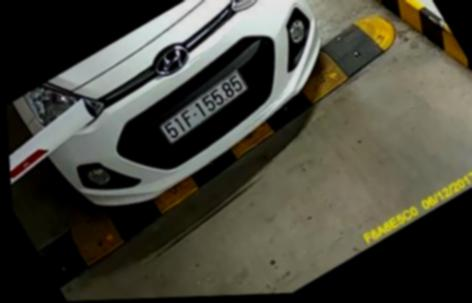License_Plate: (154, 73, 252, 150)
